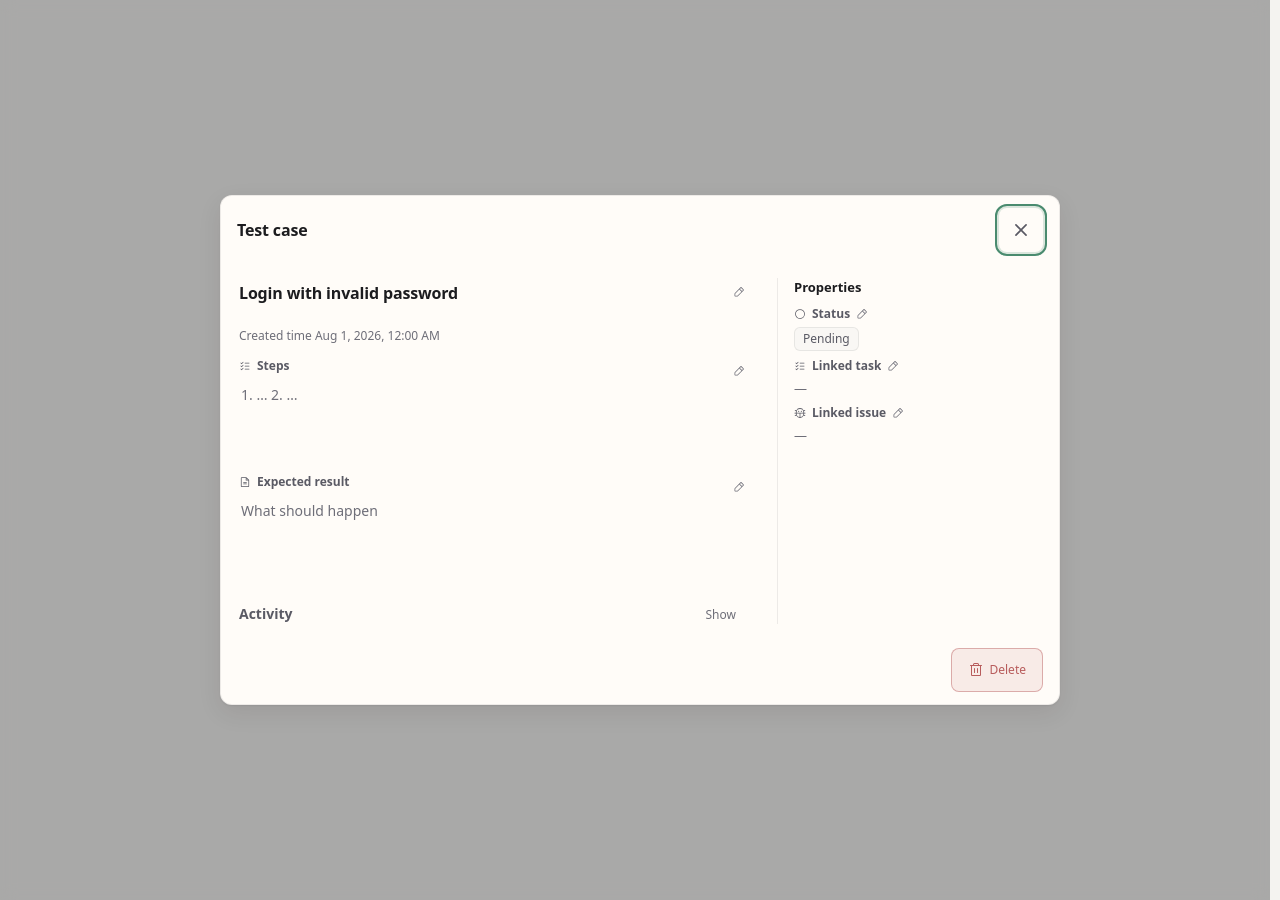
Test: TestModal linked selects › opens status options in a single activator click
The image size is (1280, 900).
Click the button "Pending" at x=918, y=338, box [794,326,1041,350]
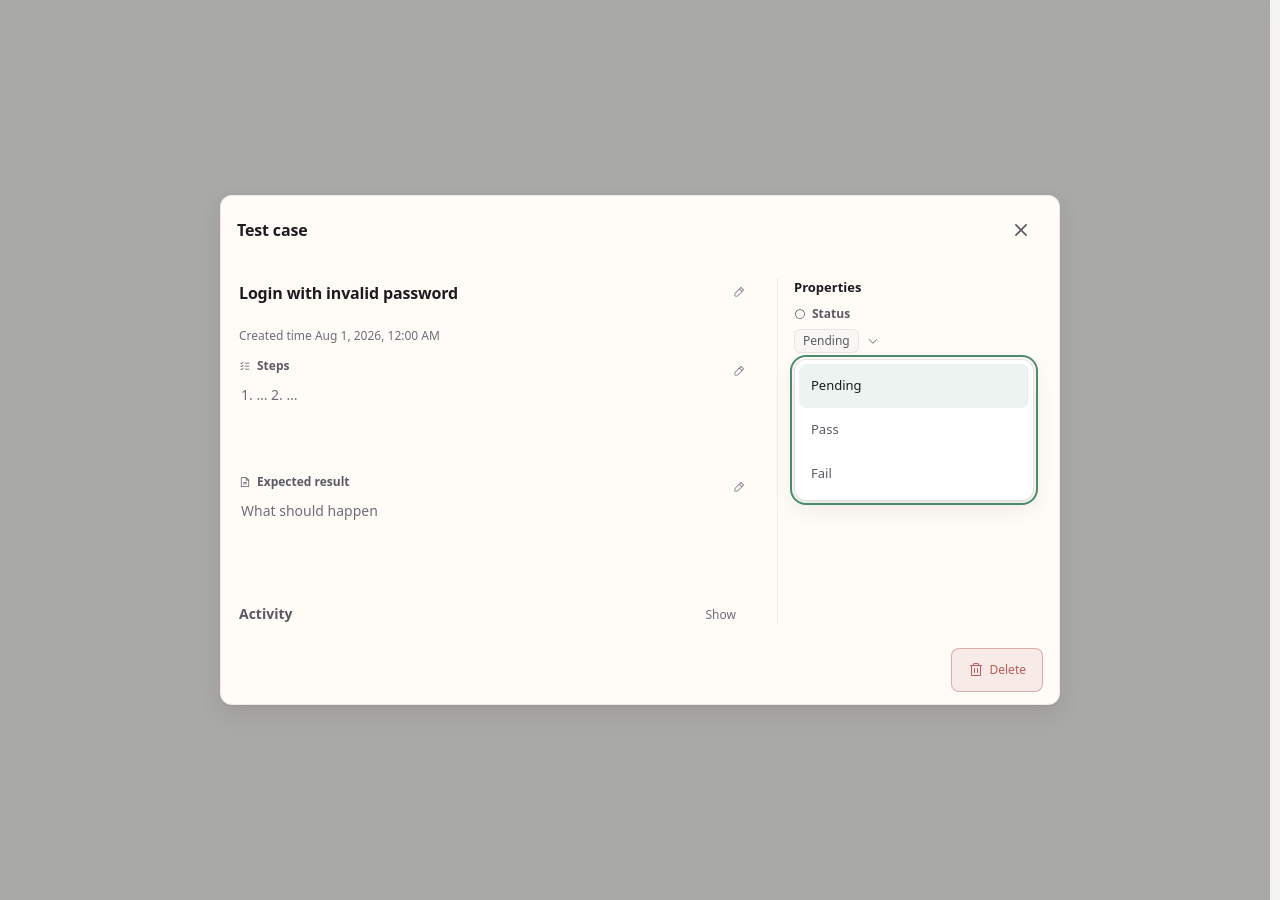
Result: the option "Pass" is shown at [799,408,1029,452]
